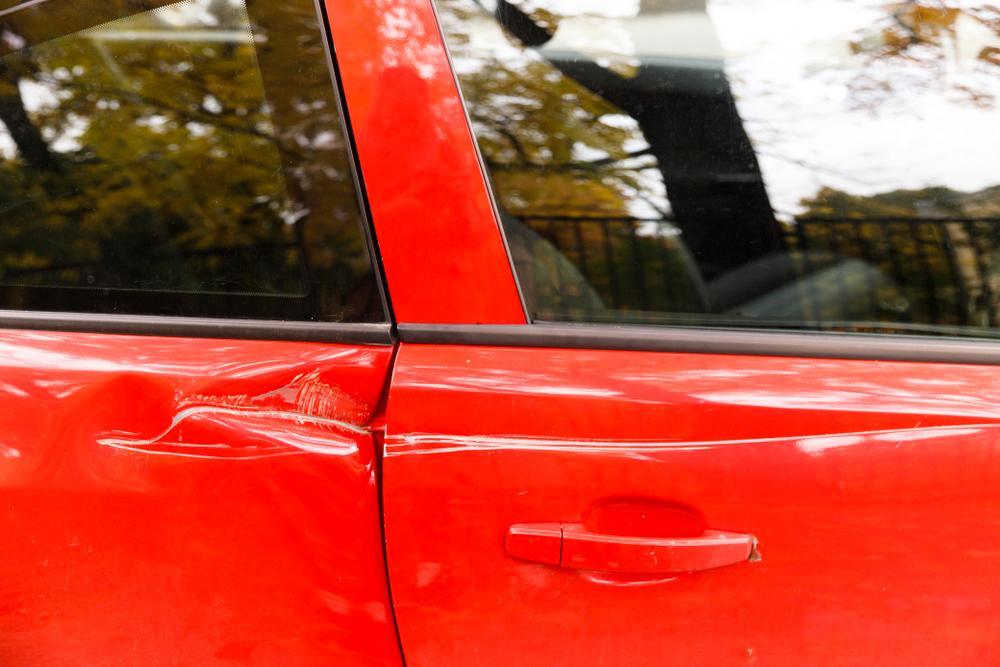dent: (0, 371, 372, 484)
scratch: (378, 429, 877, 458)
